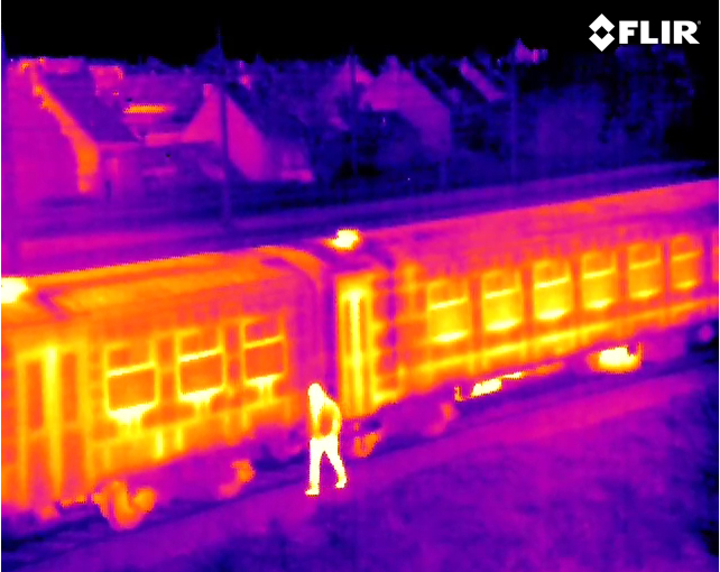person: (298, 381, 354, 494)
train-bogey: (348, 161, 720, 428), (1, 256, 350, 525)
